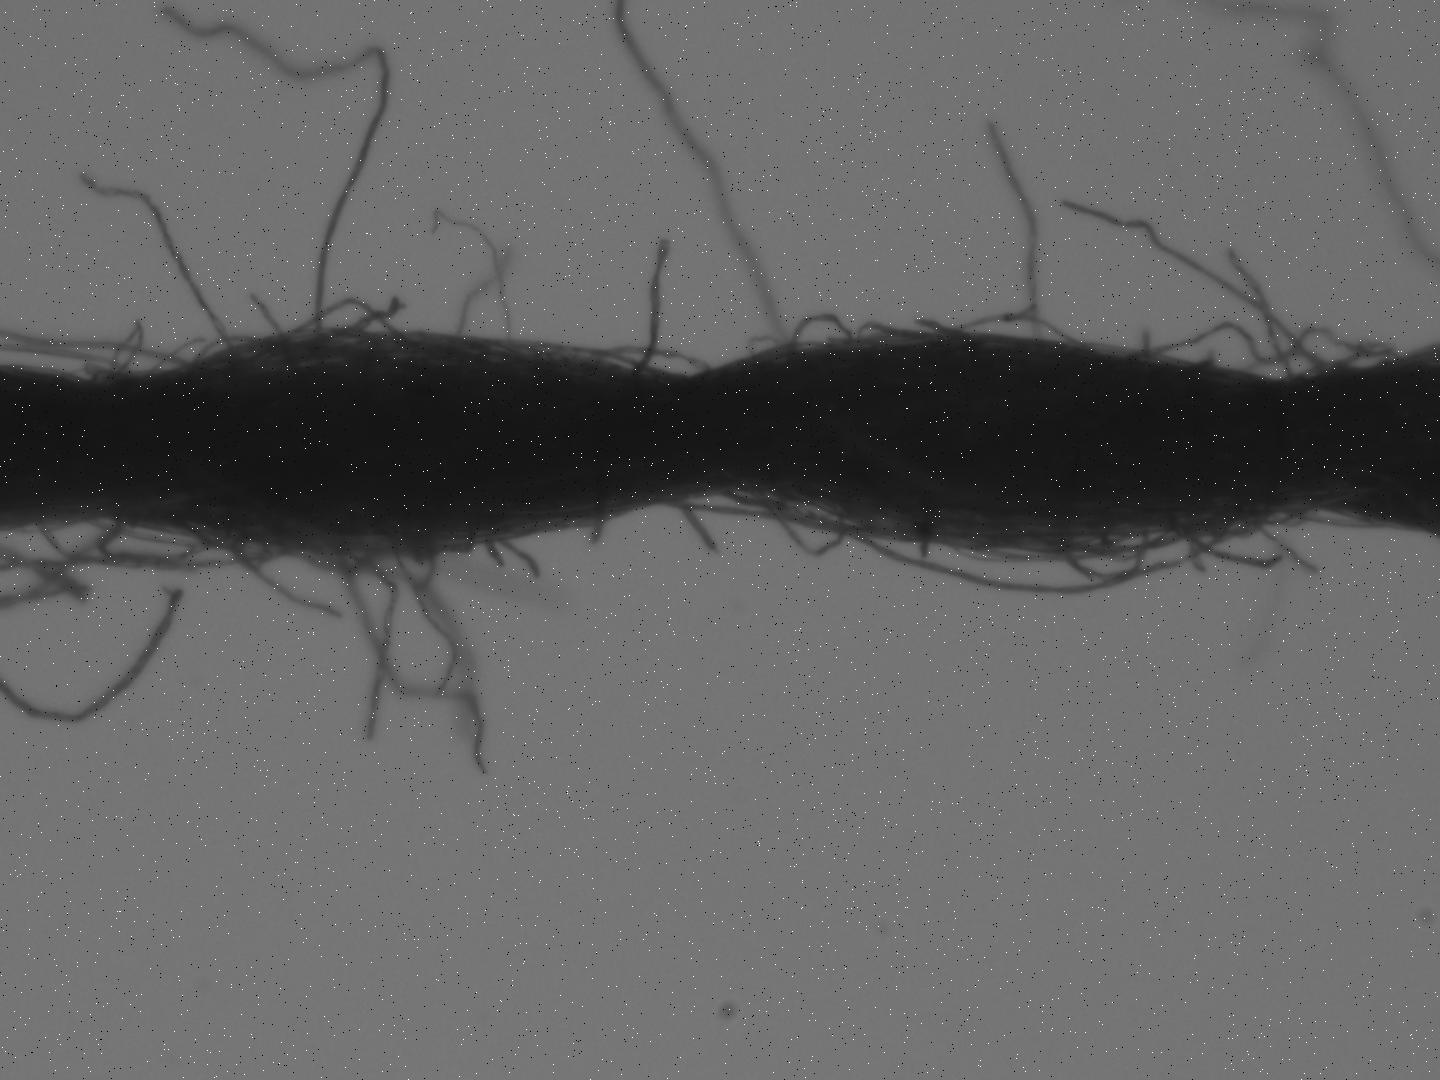loop_fiber: (736, 487, 1262, 601), (1133, 319, 1405, 378), (37, 513, 296, 574), (256, 296, 403, 356), (1025, 507, 1214, 551), (1047, 513, 1149, 580), (754, 482, 838, 557), (96, 516, 206, 565), (282, 529, 391, 574), (590, 339, 709, 378), (955, 312, 1087, 344), (382, 518, 439, 587), (403, 516, 483, 560), (791, 311, 854, 349), (1289, 505, 1397, 526), (302, 324, 383, 351)
protruding_fiber: (166, 8, 392, 332), (617, 0, 786, 343), (1064, 196, 1318, 366), (327, 541, 486, 771), (77, 168, 235, 361), (1, 582, 184, 723), (989, 121, 1047, 348), (347, 539, 395, 737), (225, 535, 340, 617), (632, 238, 667, 376), (1184, 523, 1282, 568), (251, 294, 290, 354), (680, 500, 720, 552), (586, 505, 604, 547)
